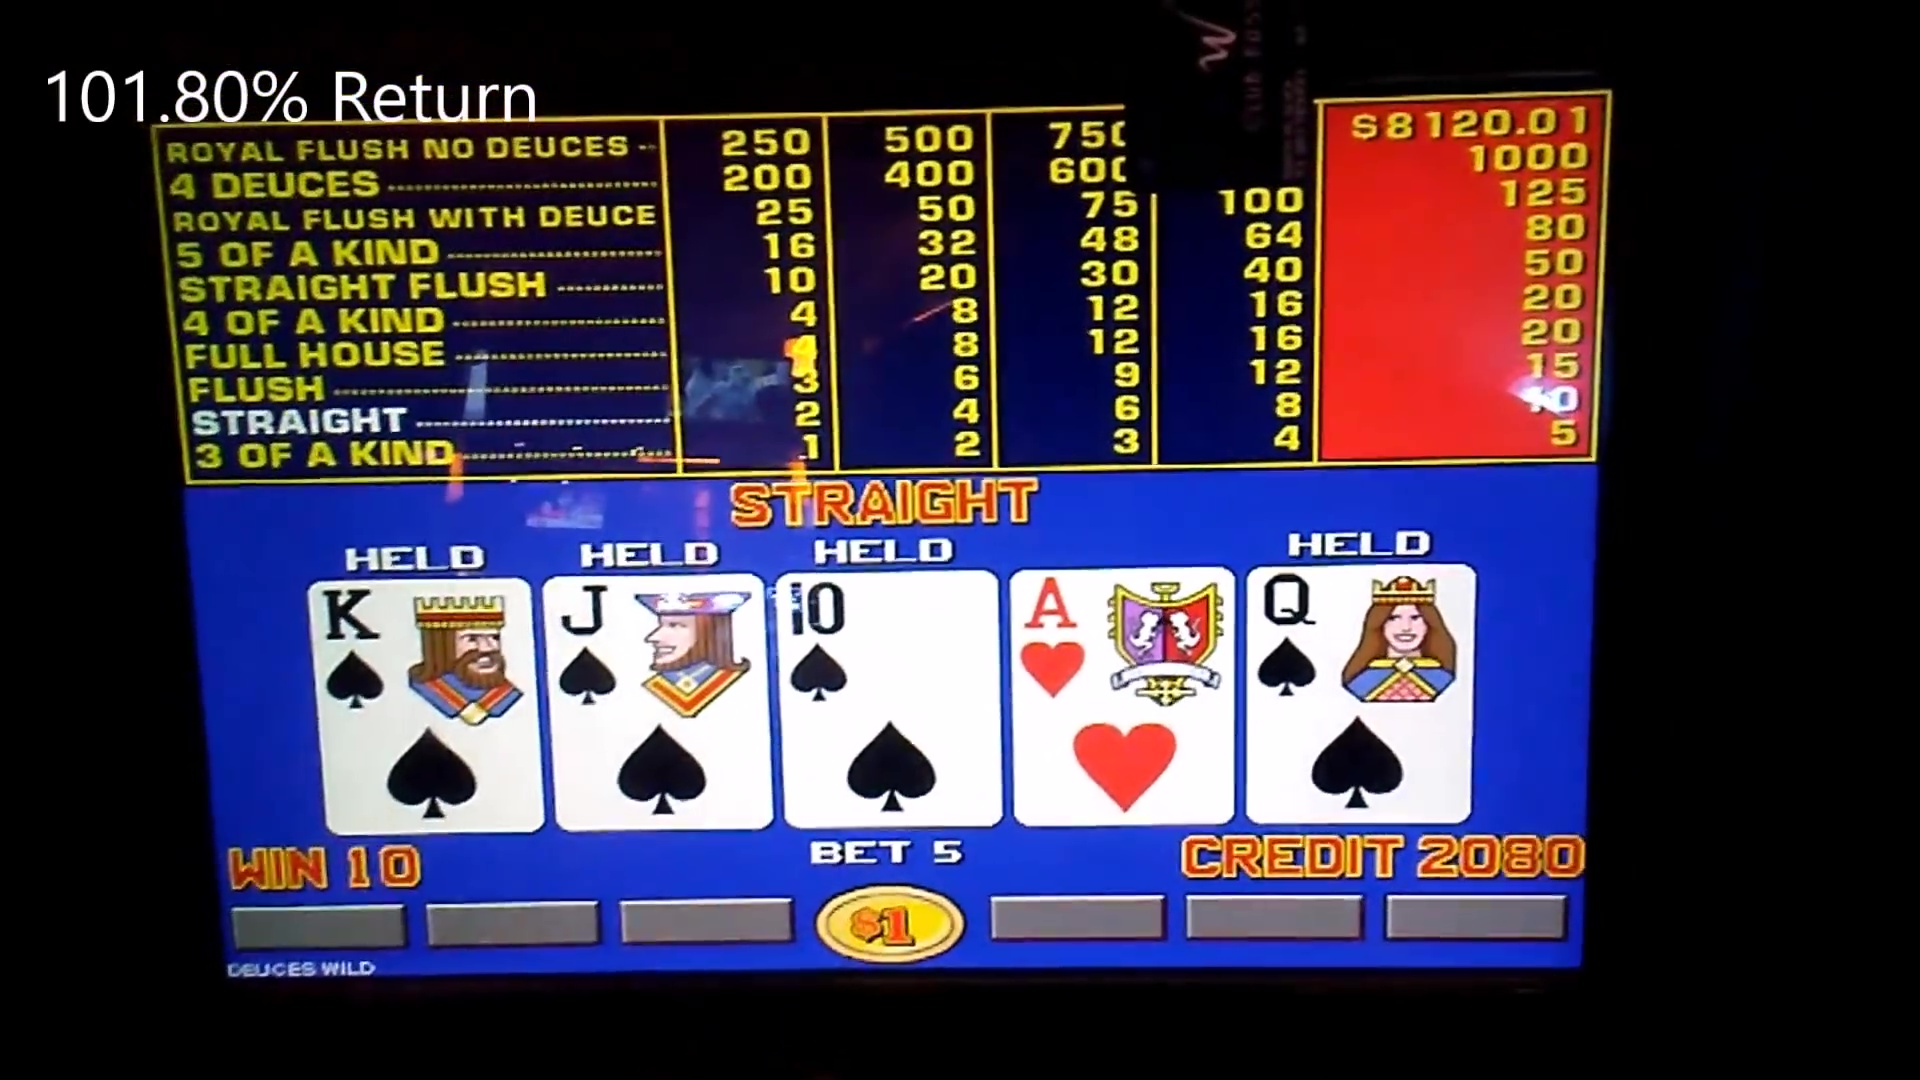HA: (1014, 568, 1237, 708)
SJ: (546, 576, 765, 713)
SK: (327, 583, 525, 717)
SQ: (1247, 564, 1474, 705)
ST: (781, 574, 998, 712)
